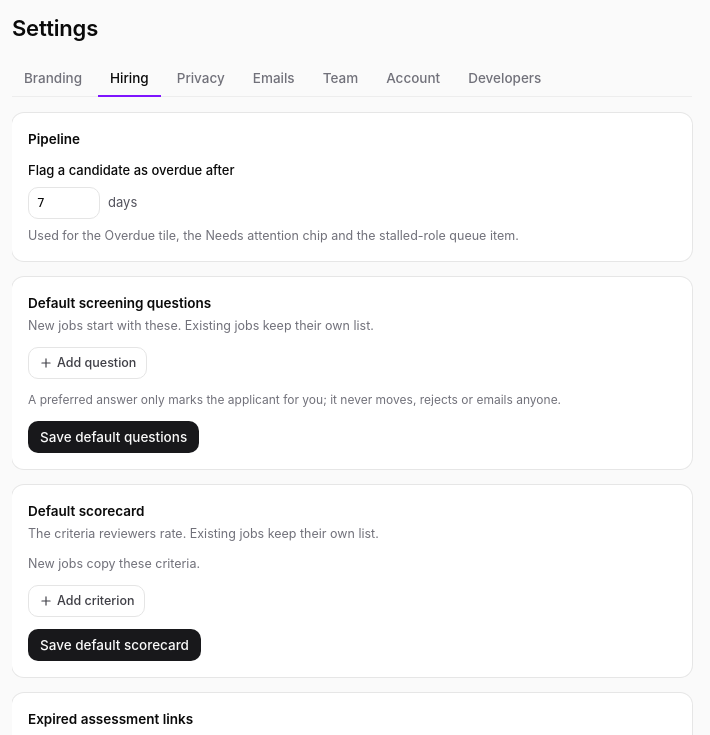
Test: HiringSettingsPage pipeline › clears a stale save error when the next value is out of range
The image size is (710, 735).
Replace the text in the number field labelled "Flag a candidate as overdue after" with "20": (64, 203) [28,187,100,219]
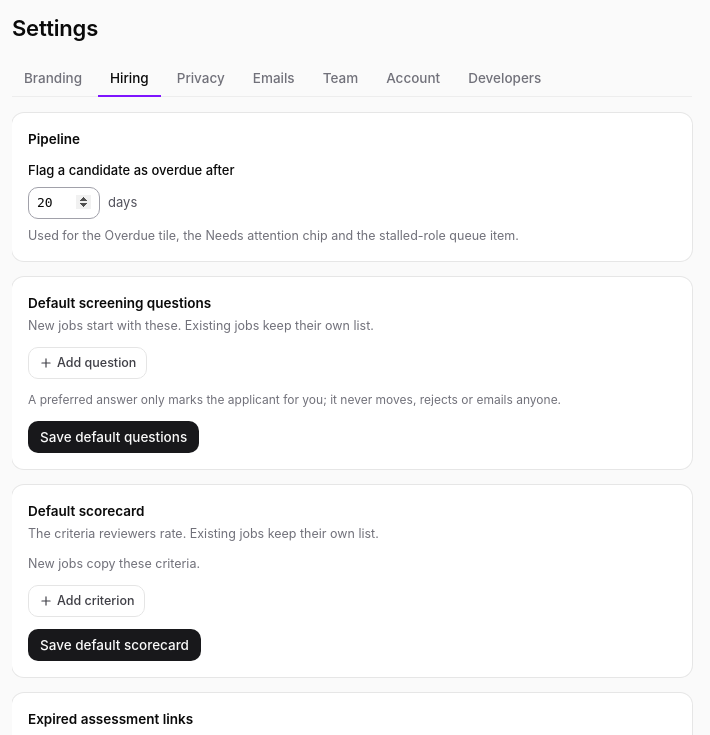
Press Tab
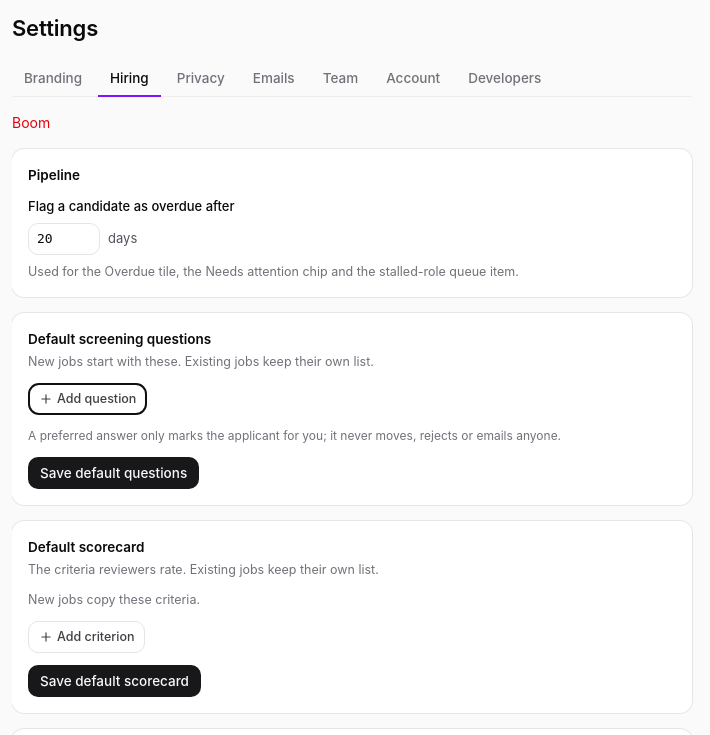
Check: the message reads "Boom", box [12,114,50,131]
Replace the text in the number field labelled "Flag a candidate as overdue after" with "0": (64, 239) [28,223,100,255]
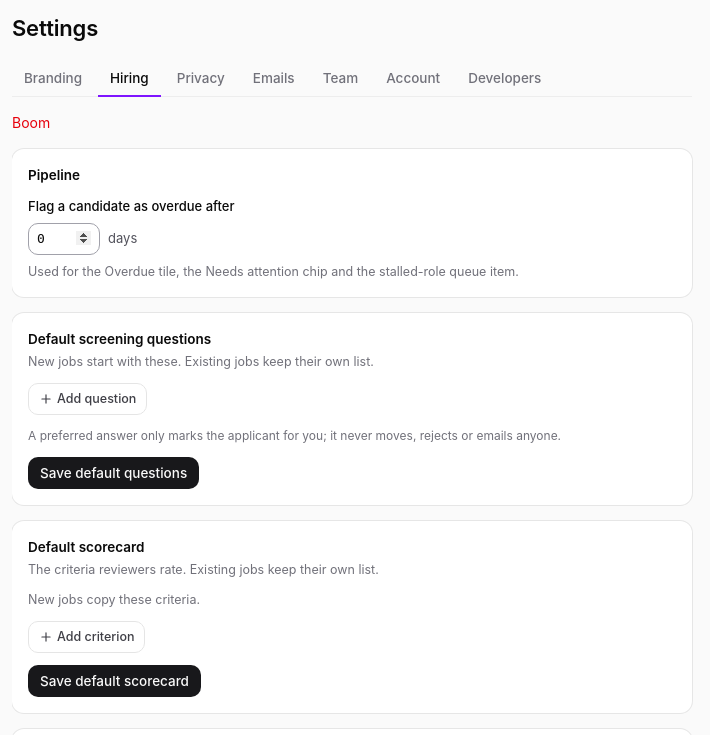
Press Tab
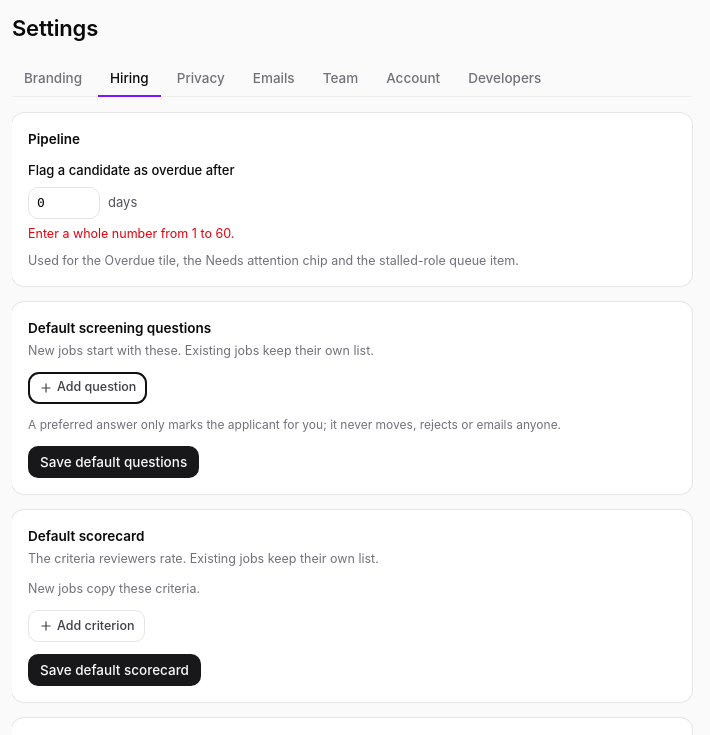
Check: the message "Boom" is gone
